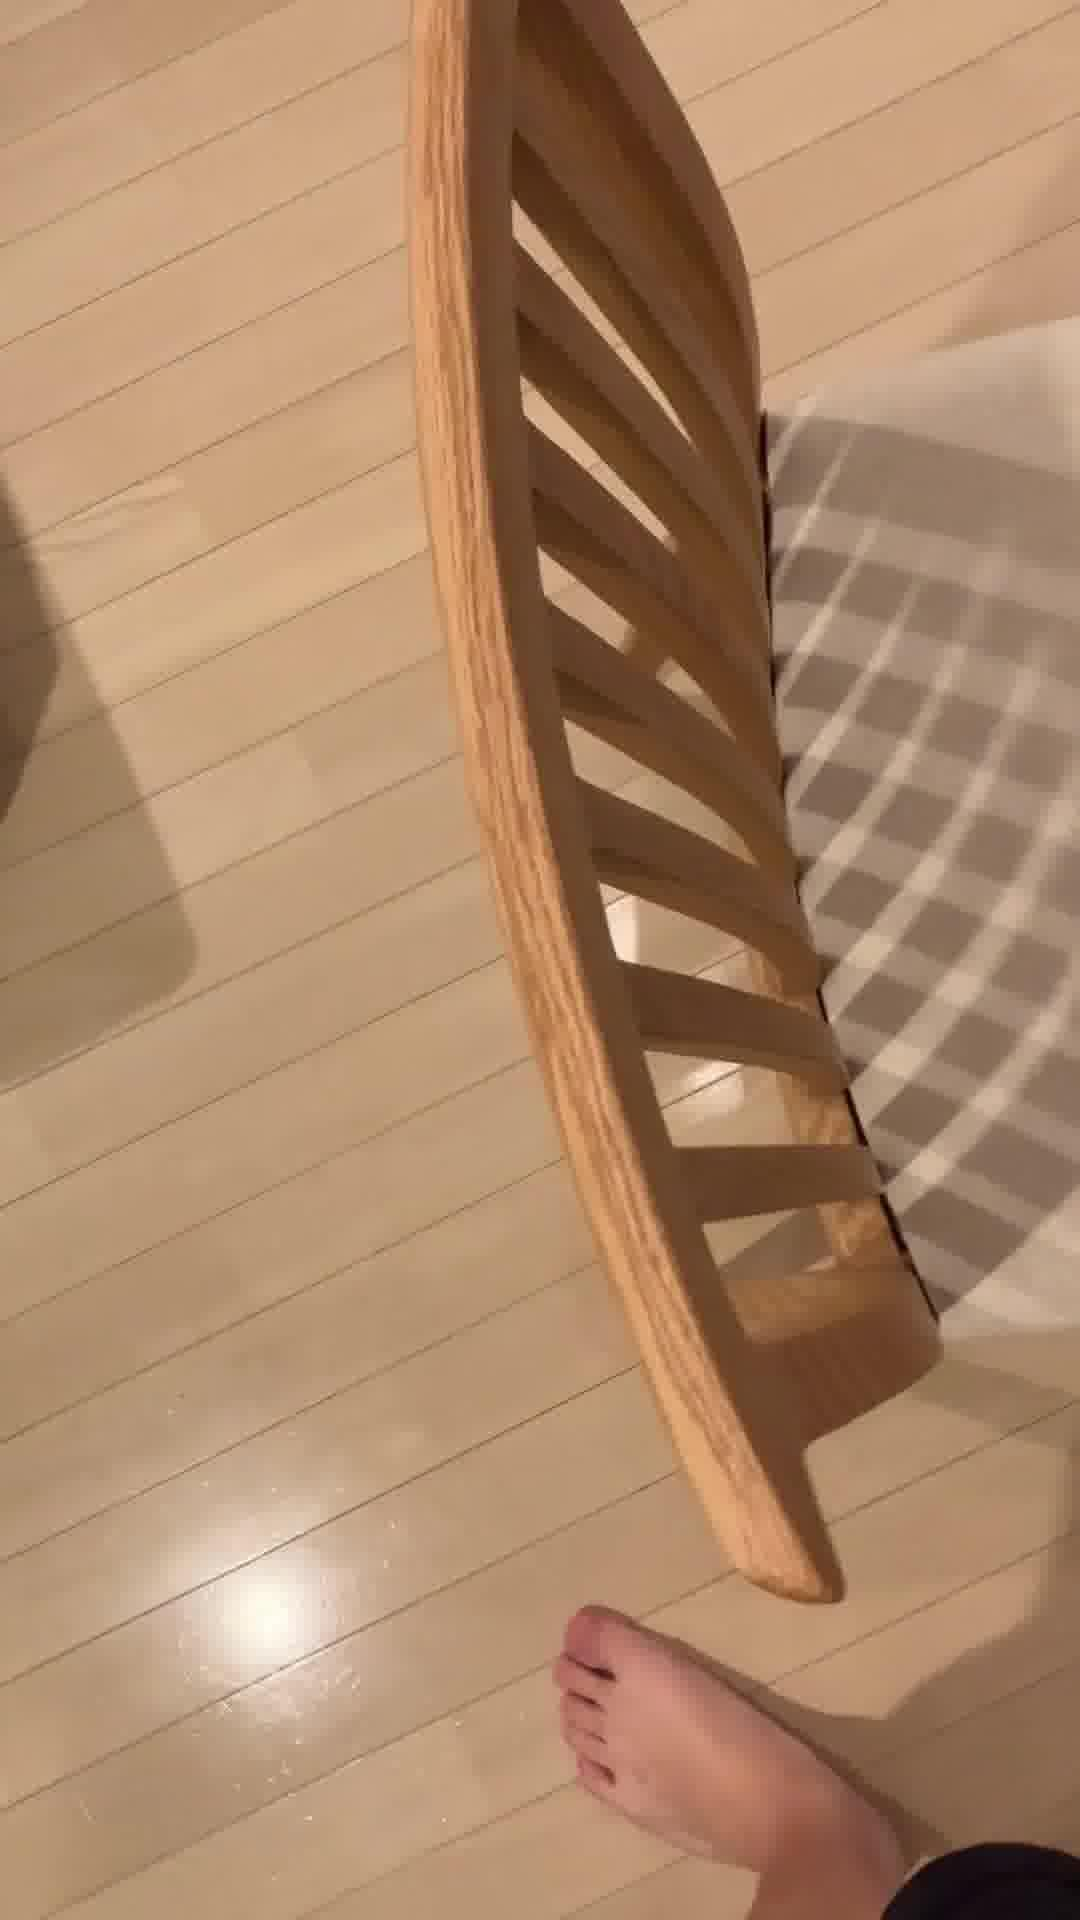takumikan-chair: (398, 0, 1080, 1607)
